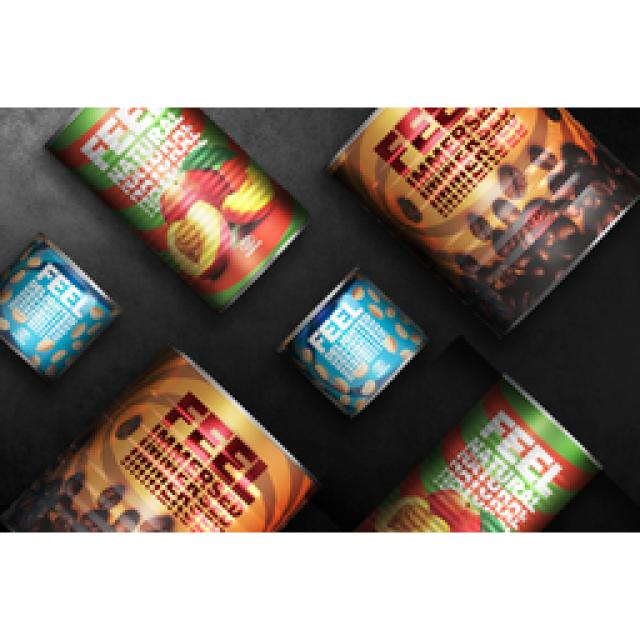alumunium: (330, 108, 638, 330), (5, 348, 312, 530), (50, 108, 305, 305), (360, 375, 595, 530), (280, 270, 422, 415), (0, 238, 118, 375)
